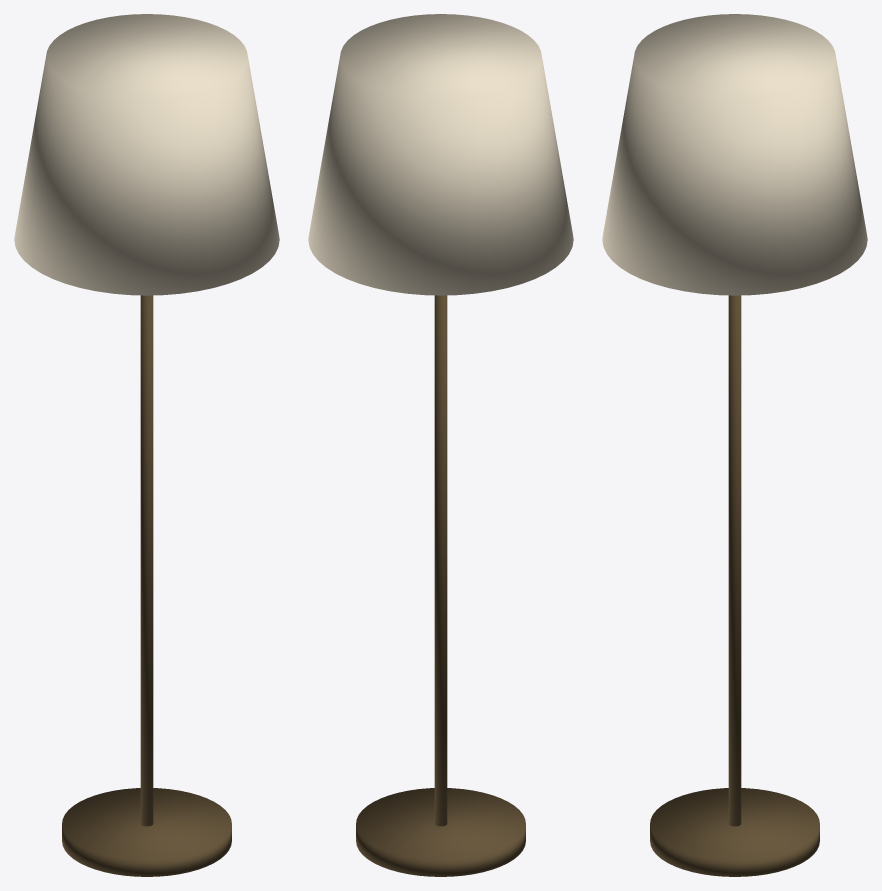
File: floor-lamp.glb
3 views of the same model, side by side, from view 1: azimuth 30°, elevation 25°; view 2: azimuth 150°, elevation 25°; view 3: azimuth 270°, elevation 25° (orthographic).
Visible parts, largest first — view 1: Lamp base; view 2: Lamp base; view 3: Lamp base.
Boxes of the visible parts, <box> form: Lamp base: <box>14,14,279,876</box>; Lamp base: <box>308,14,573,876</box>; Lamp base: <box>602,14,867,876</box>.
Bounding box in the file's own units: 0.5 × 1.63 × 0.5.
